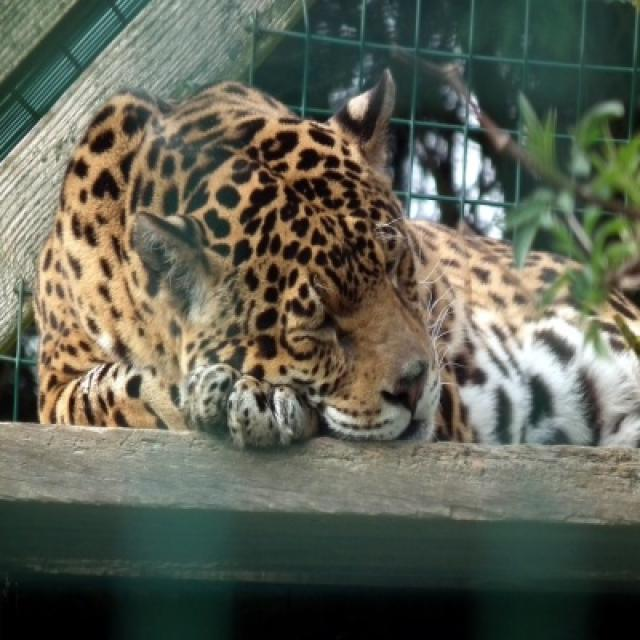Jaguar: (32, 72, 638, 451)
